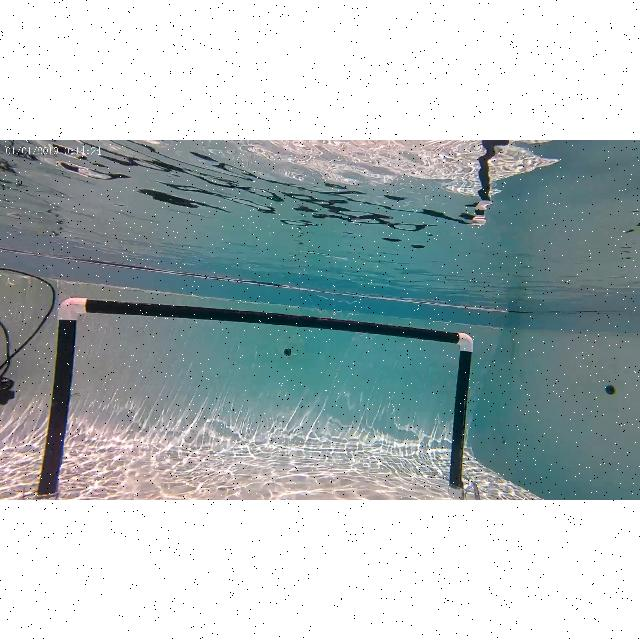prequal gate: (40, 296, 474, 498)
prequal gate leg l: (44, 296, 90, 500)
prequal gate leg r: (445, 330, 483, 500)
